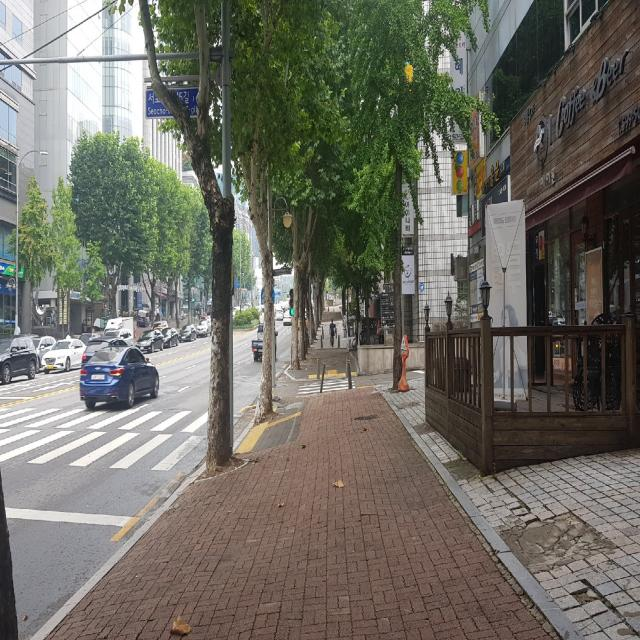횡단보도: (0, 407, 202, 475), (297, 378, 355, 394)
